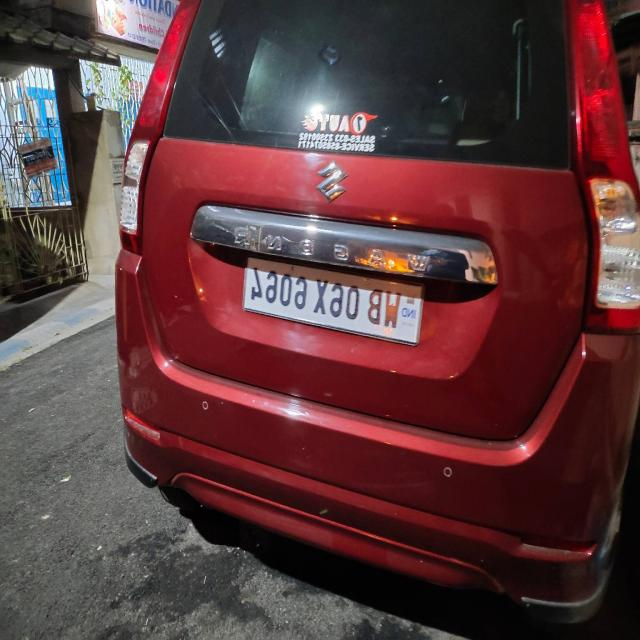license_plate: (240, 252, 425, 350)
